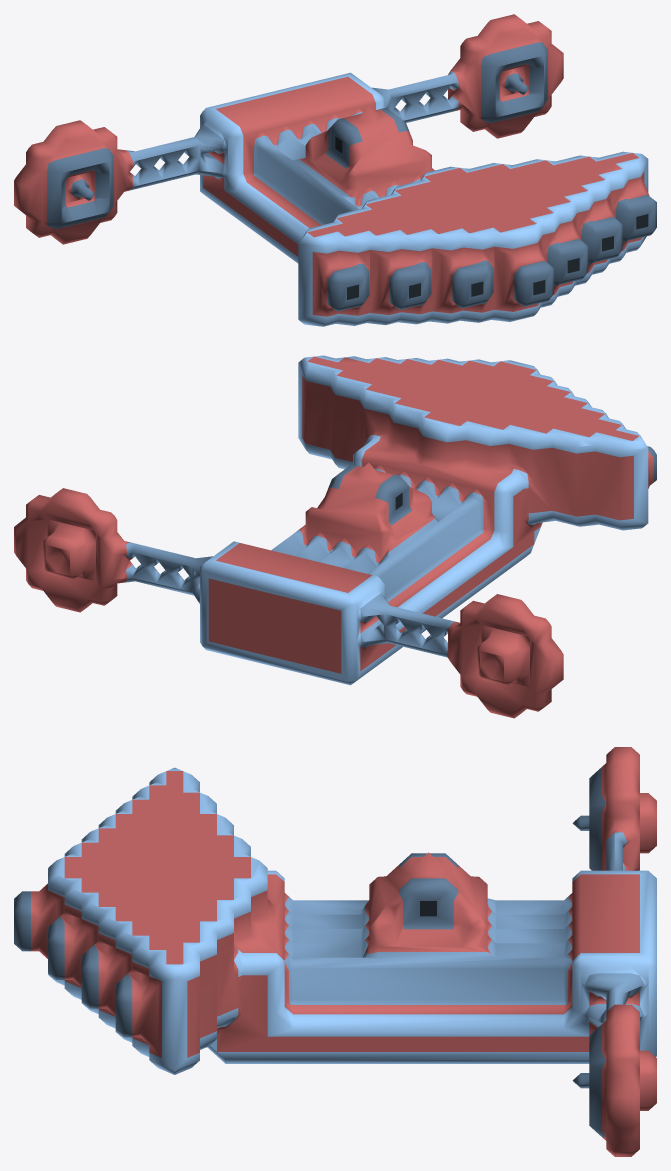
The model's file is usa-3-arlington-class.obj.
3 renders of one model, top to bottom at view 1: azimuth 30°, elevation 25°; view 2: azimuth 150°, elevation 25°; view 3: azimuth 270°, elevation 25°, orthographic. The views are drawn at different scales.
Bounding box in the file's own units: 45 × 11 × 38.
Materials: 1 (1 with a texture image).
